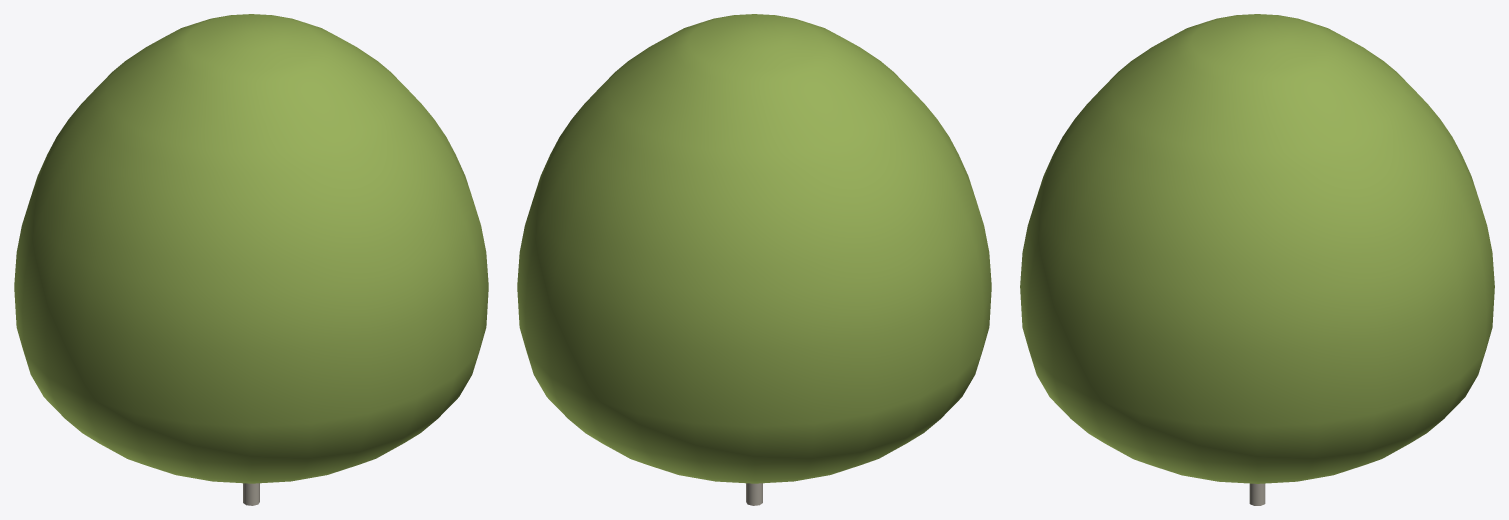
Rendered from PrunusArmeniaca.glb.
3 renders of one model, left to right at view 1: azimuth 30°, elevation 25°; view 2: azimuth 150°, elevation 25°; view 3: azimuth 270°, elevation 25°, orthographic.
Visible parts, largest first — view 1: Apricot__Schematic_LOD3; view 2: Apricot__Schematic_LOD3; view 3: Apricot__Schematic_LOD3.
Part boxes in pixels (bbox=[...]): Apricot__Schematic_LOD3: bbox=[14, 14, 488, 505]; Apricot__Schematic_LOD3: bbox=[517, 14, 991, 505]; Apricot__Schematic_LOD3: bbox=[1020, 14, 1494, 505].
Size of the model in its own units: 8.32 by 9.09 by 8.32.
